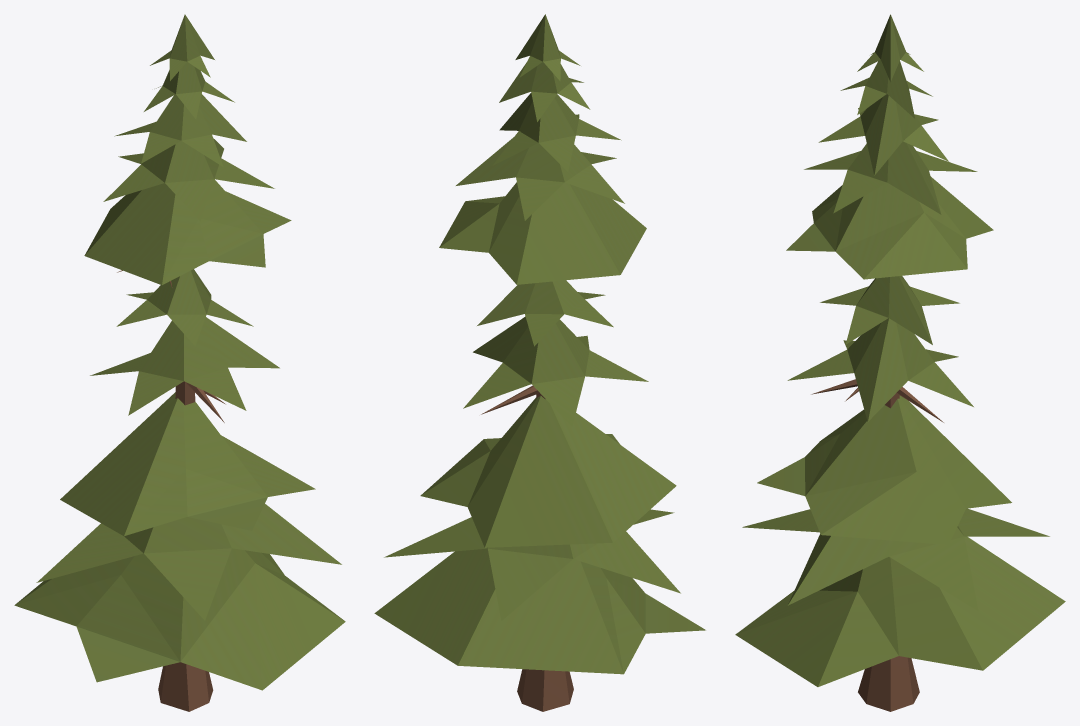
The model's file is Tree_3_TD_LOD1.fbx.
The picture shows the model from 3 angles, left to right: view 1: azimuth 30°, elevation 25°; view 2: azimuth 150°, elevation 25°; view 3: azimuth 270°, elevation 25°; orthographic projection.
Visible parts, largest first — view 1: polySurface10471; view 2: polySurface10471; view 3: polySurface10471.
Part boxes in pixels (x1,y1,x2,y2): polySurface10471: (14, 14, 345, 711); polySurface10471: (374, 14, 705, 711); polySurface10471: (735, 14, 1065, 711).
Bounding box in the file's own units: 246 × 602 × 264.
